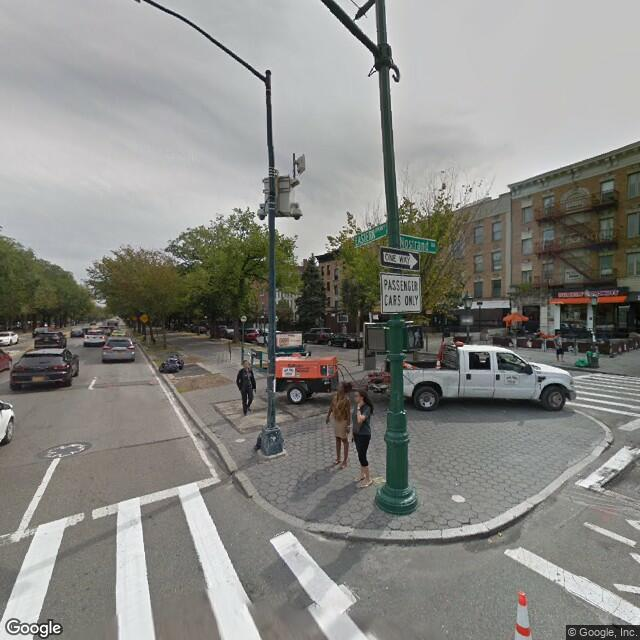litter: (483, 536, 495, 546), (497, 409, 509, 412), (496, 532, 505, 535)
